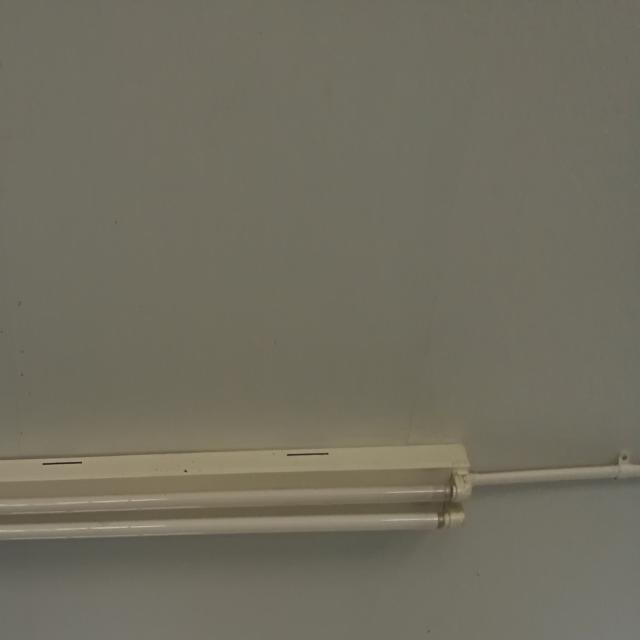fluorescent tube: (0, 428, 479, 585)
